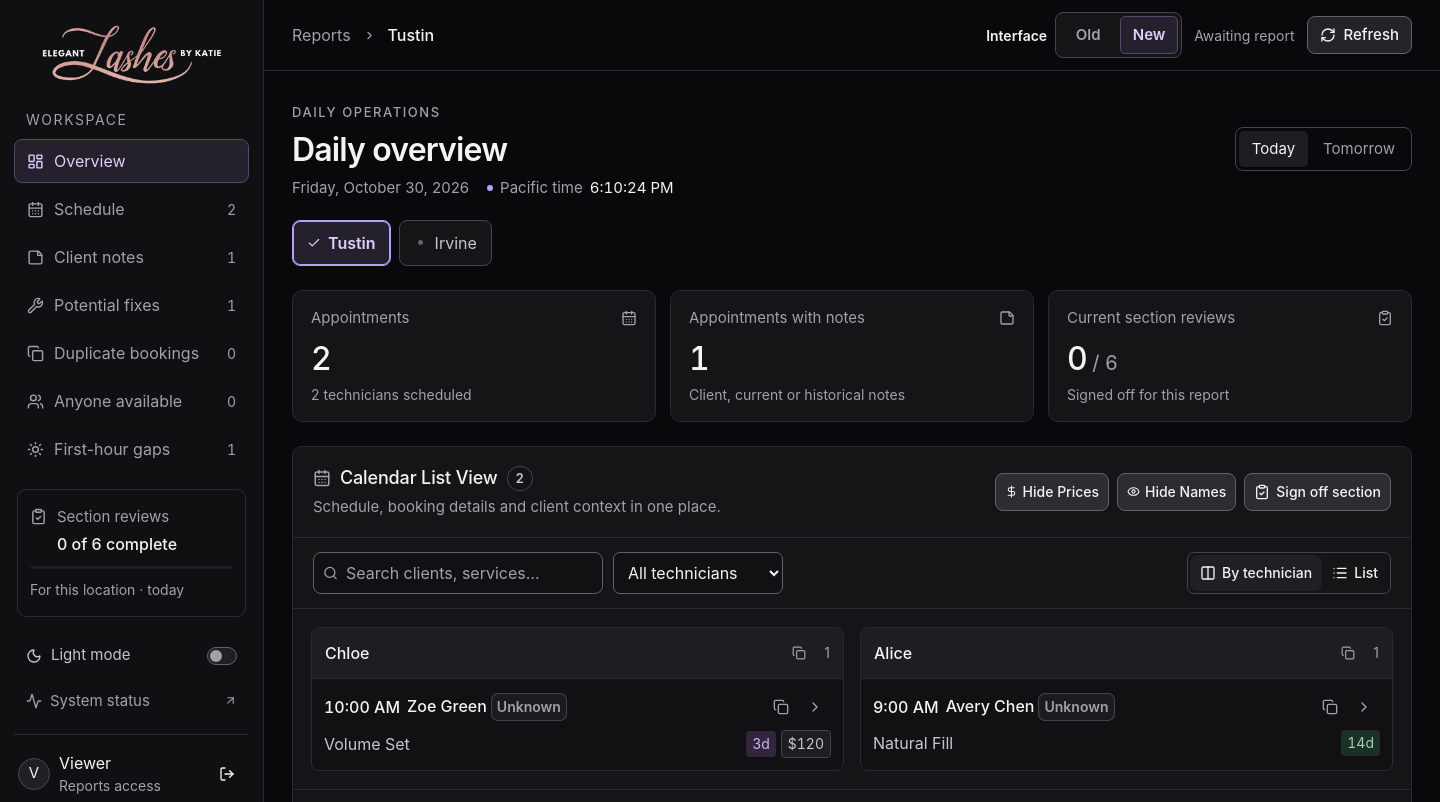
Scenario: sorts and filters the schedule without changing the report totals or searching hidden names
Check: the button with aria-label "Sign off Calendar List View" is shown, box 1244,473 -> 1391,511
Click the button "List" at x=1355, y=573, box 1322,555 -> 1388,591
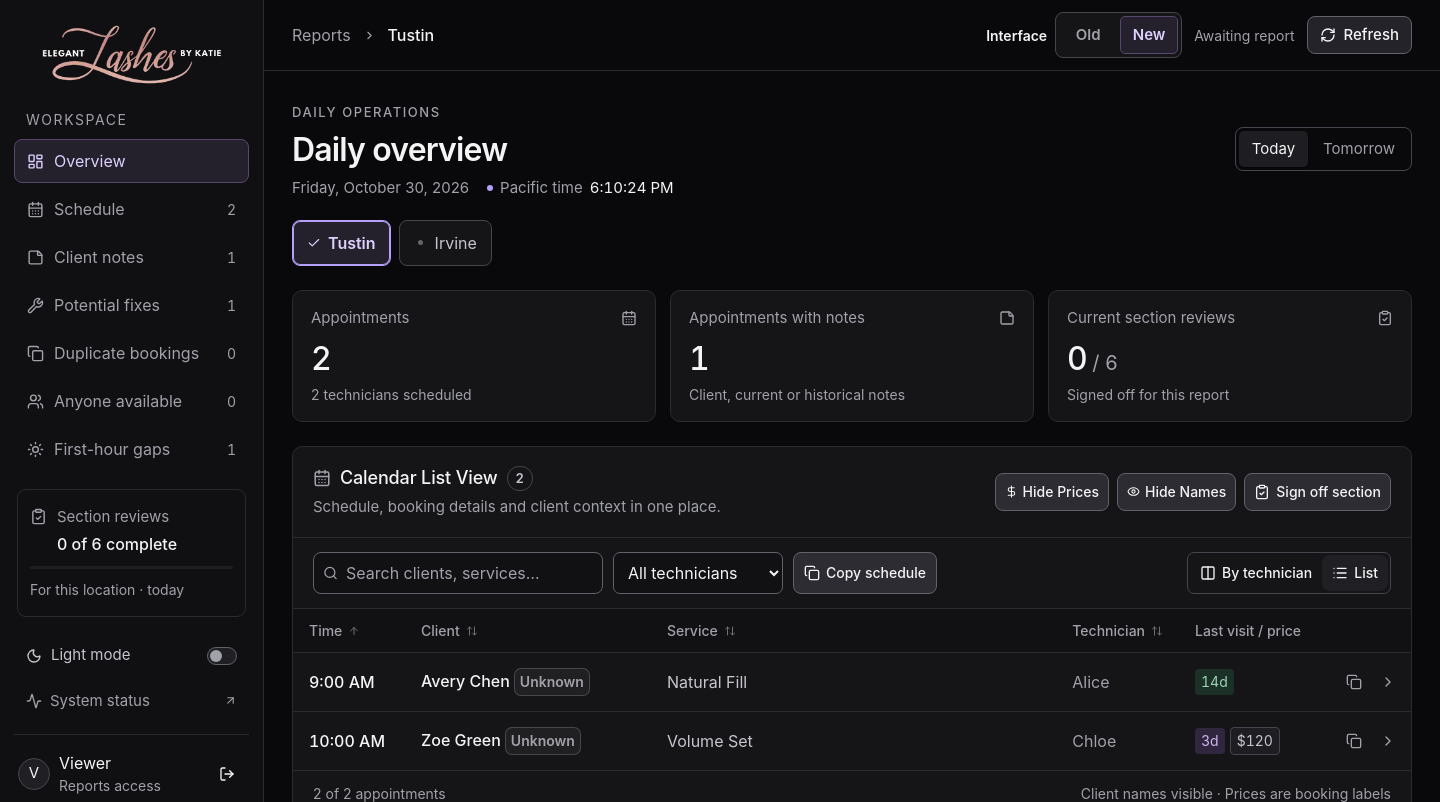
Check: the text "Avery Chen" is shown, box 421,671 -> 510,691
Click the button "Hide Names" at x=1177, y=492, box 1117,473 -> 1236,511
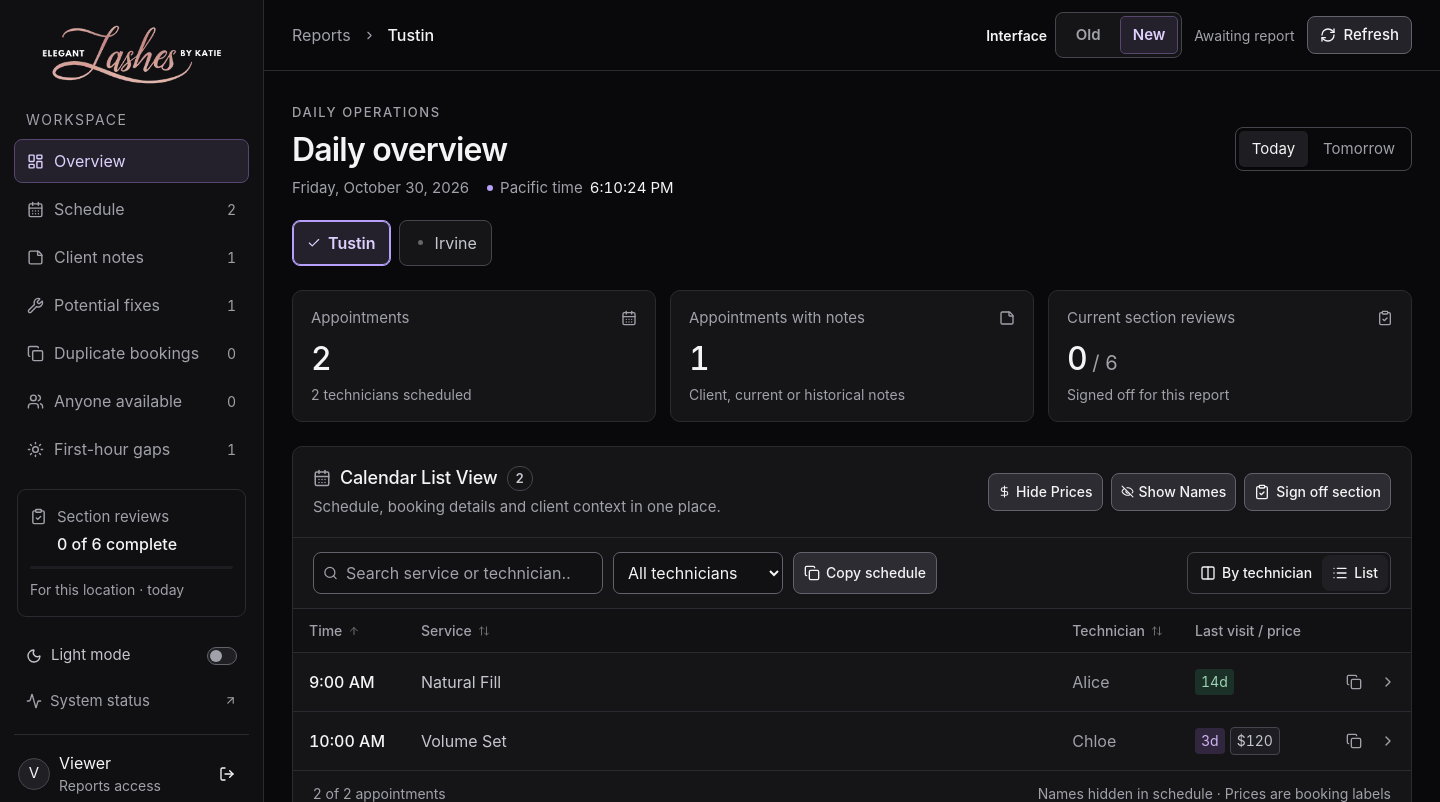
Check: the row "9:00 AM Natural Fill Alice 14d" is shown, box 293,653 -> 1411,712
Click the button "Time" at x=335, y=630, box 309,620 -> 360,640
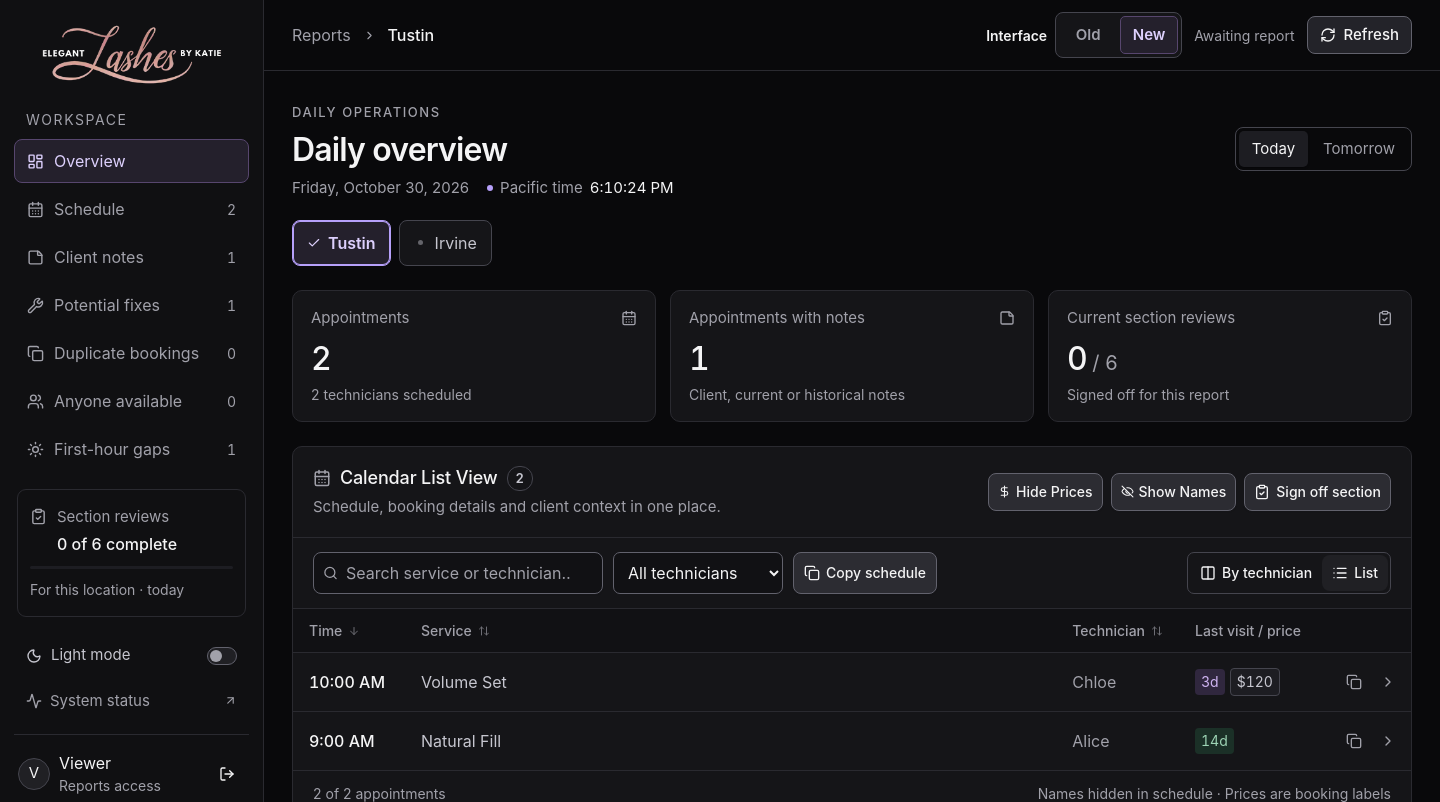
Check: the row "10:00 AM Volume Set Chloe 3d $120" is shown, box 293,653 -> 1411,712
Type "Avery" into the field named "Search schedule" at x=458, y=573, box 313,552 -> 603,594
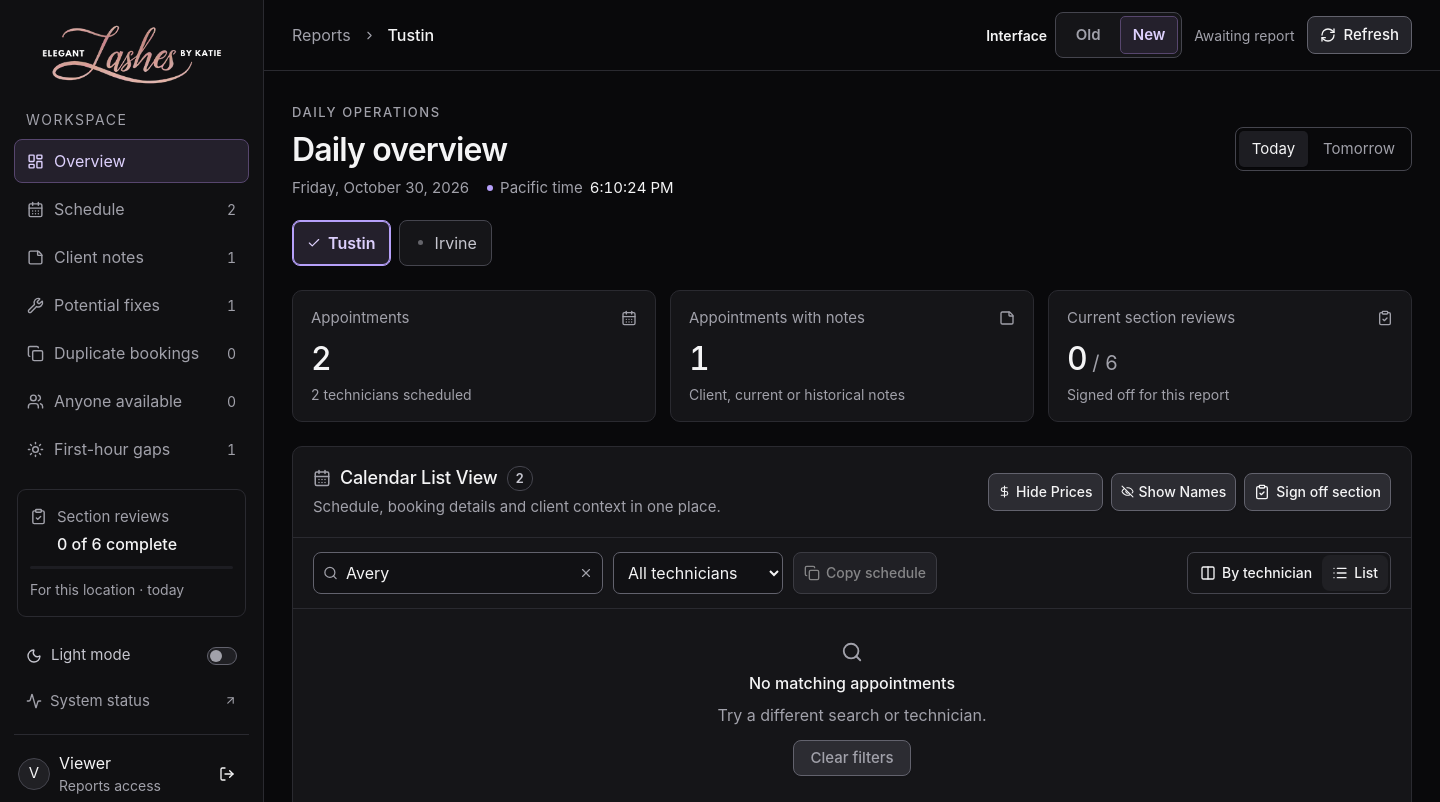
Check: the text "No matching appointments" is shown, box 749,671 -> 955,695
Click the button "Show Names" at x=1173, y=492, box 1110,473 -> 1236,511
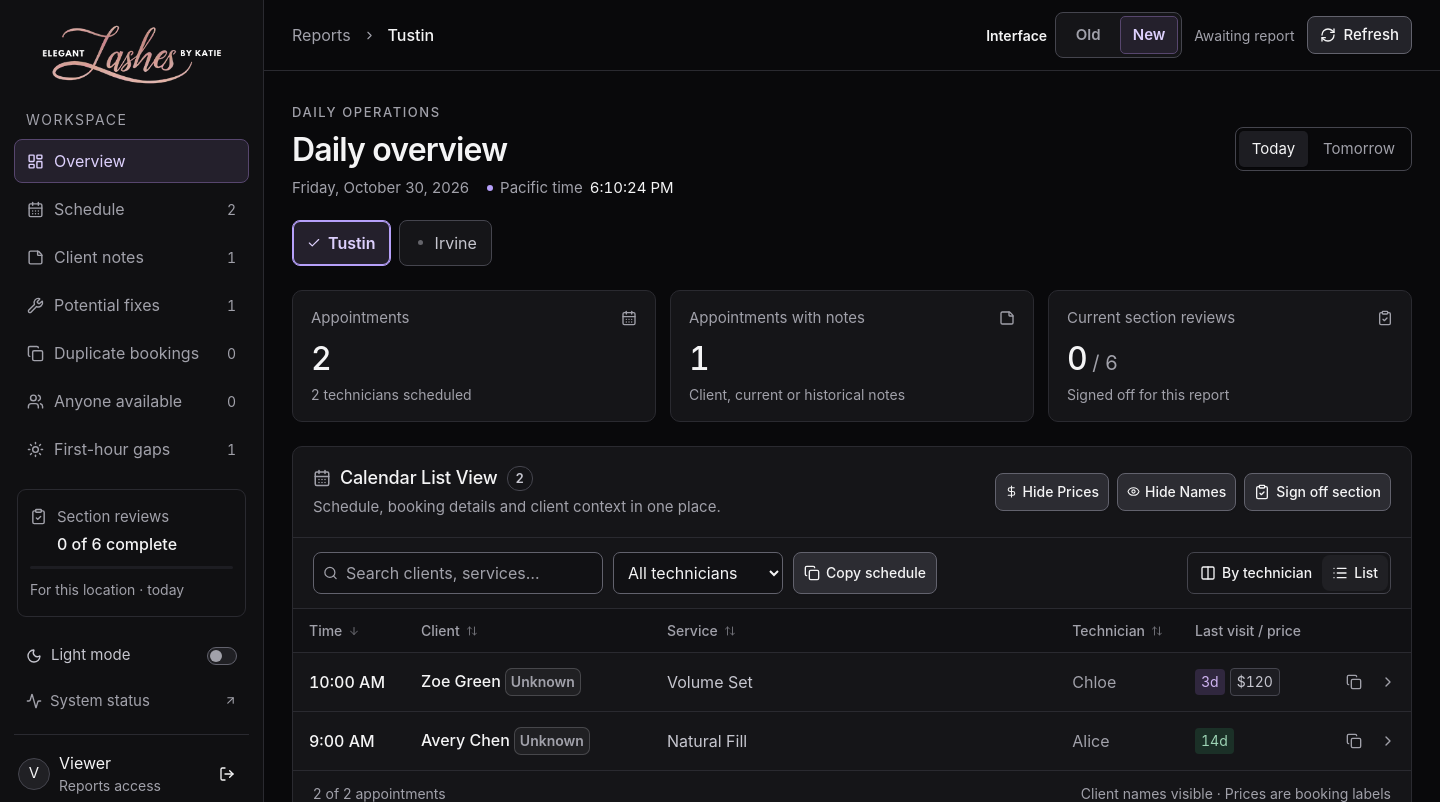
Check: the field named "Search schedule" is empty
Type "Avery" into the field named "Search schedule" at x=458, y=573, box 313,552 -> 603,594
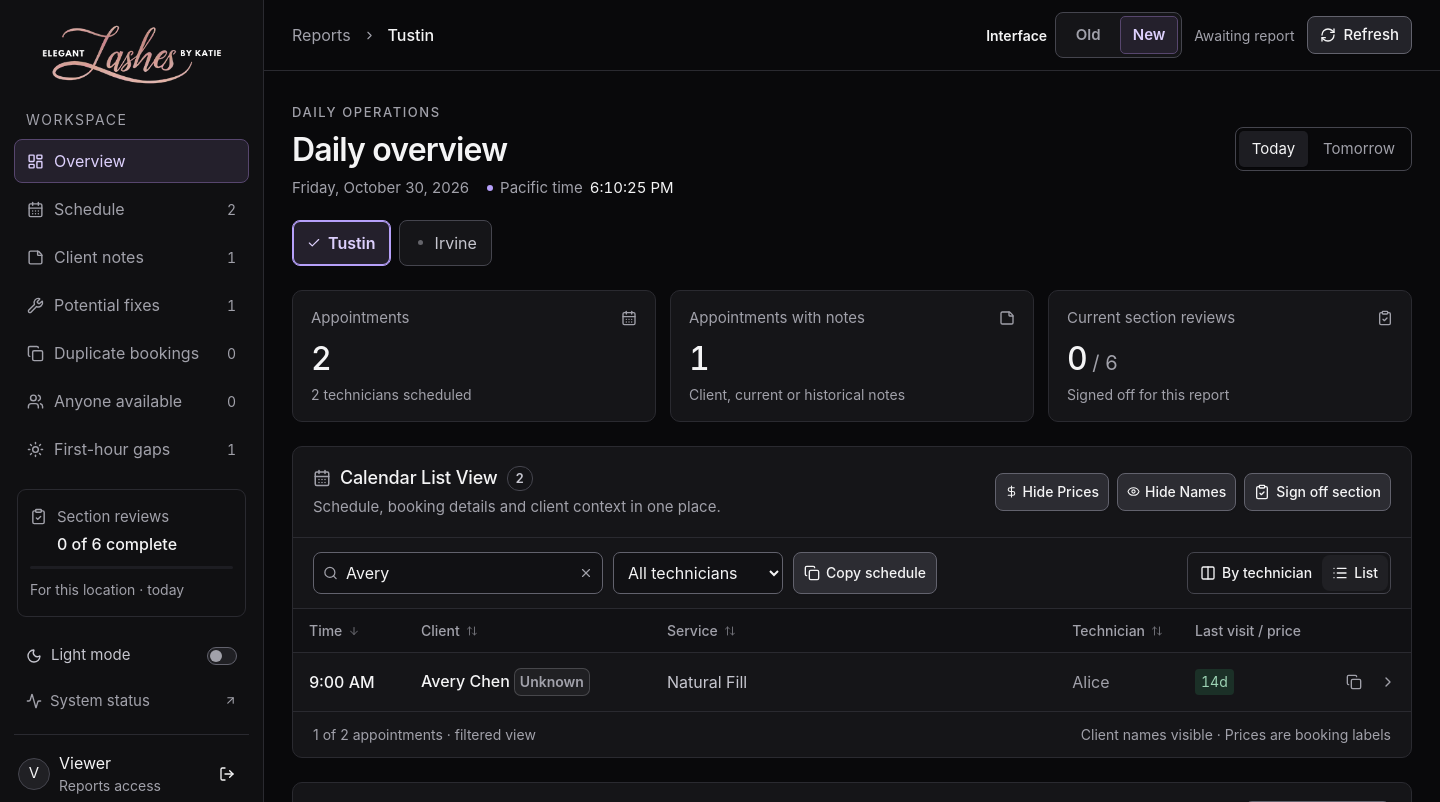
Check: the number of rows is 2, box 293,609 -> 1411,653; 293,653 -> 1411,711
Check: the text "Avery Chen" is shown, box 421,671 -> 510,691
Check: the text "1 of 2 appointments · filtered view" is shown, box 313,724 -> 536,745
